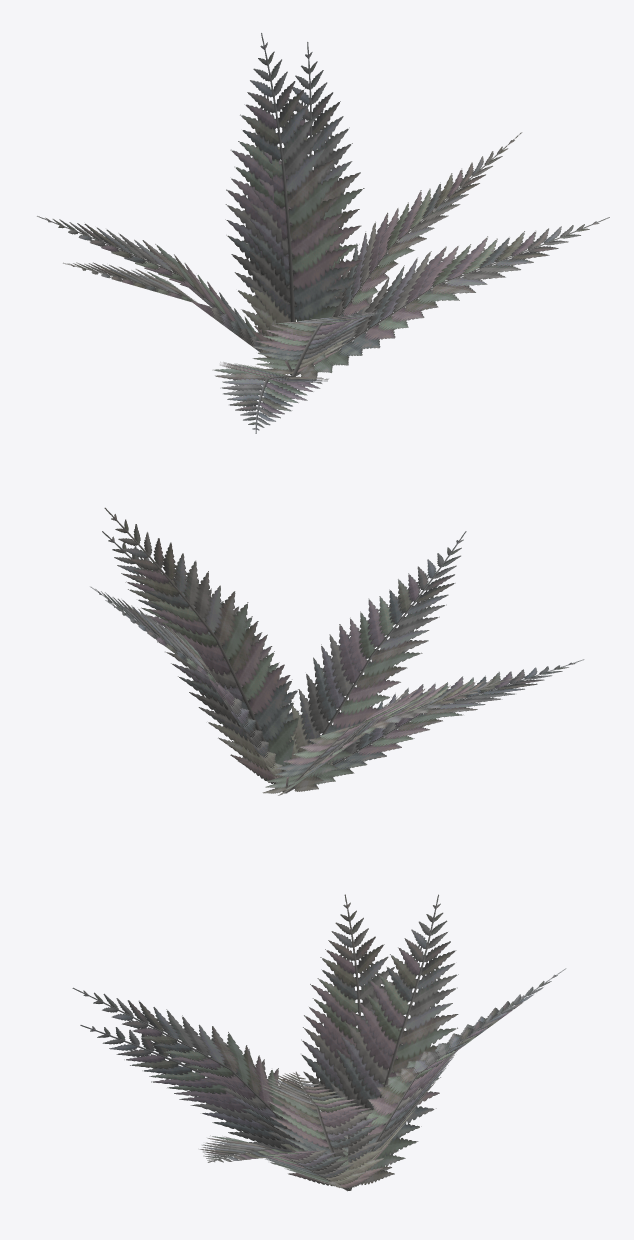
File: tree_fern_l1.gltf
The picture shows the model from 3 angles, top to bottom: view 1: azimuth 30°, elevation 25°; view 2: azimuth 150°, elevation 25°; view 3: azimuth 270°, elevation 25°; orthographic projection. The views are drawn at different scales.
Visible parts, largest first — view 1: tree_fern_l1; view 2: tree_fern_l1; view 3: tree_fern_l1.
Boxes of the visible parts, left/top/right/bottom form: tree_fern_l1: left=37, top=33, right=609, bottom=433; tree_fern_l1: left=90, top=507, right=584, bottom=795; tree_fern_l1: left=72, top=894, right=566, bottom=1191.
Bounding box in the file's own units: 4.17 × 2.17 × 4.05.
1 material, 1 textured.
